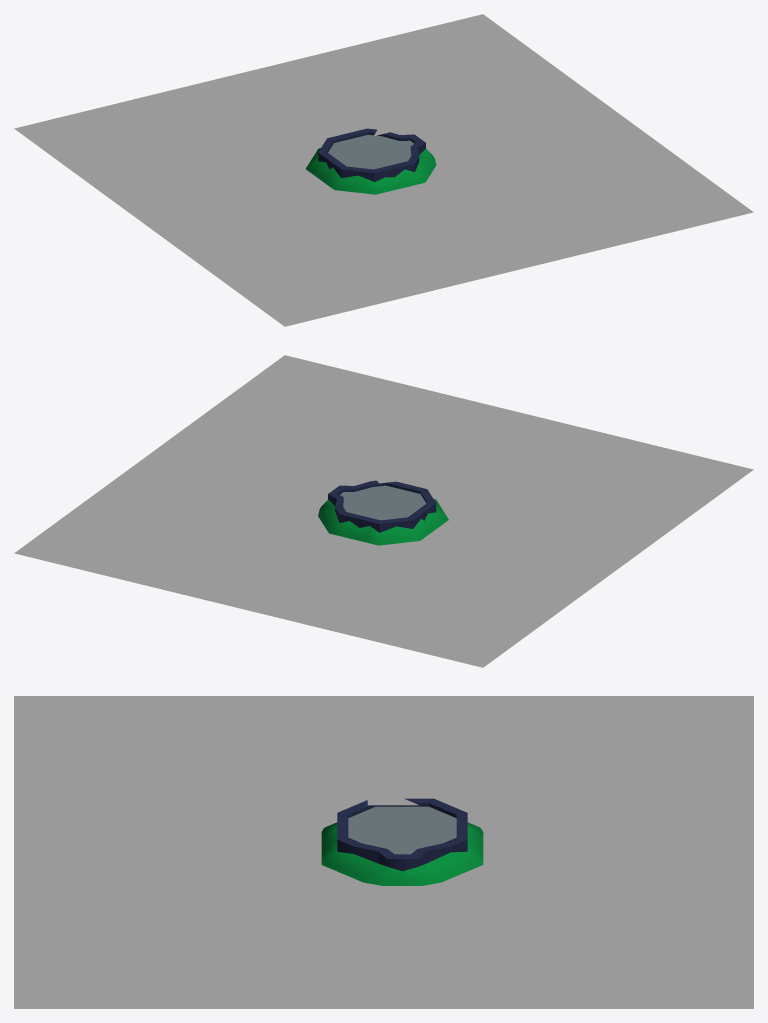
File: NEW_N3_bossRoom.fbx
The picture shows the model from 3 angles, top to bottom: view 1: azimuth 30°, elevation 25°; view 2: azimuth 150°, elevation 25°; view 3: azimuth 270°, elevation 25°; orthographic projection. The views are drawn at different scales.
Parts seen in each view (by area): view 1: Agua, Escenario, Direccion1; view 2: Agua, Escenario, Direccion1; view 3: Agua, Escenario, Direccion1.
Boxes of the visible parts, x1,y1,x2,y2 form: Agua: [14, 14, 753, 326]; Escenario: [306, 128, 436, 194]; Direccion1: [352, 114, 405, 135]; Agua: [14, 355, 753, 667]; Escenario: [318, 480, 448, 545]; Direccion1: [355, 460, 405, 483]; Agua: [14, 696, 753, 1008]; Escenario: [321, 798, 483, 885]; Direccion1: [367, 779, 427, 805].
Size of what is drawn, in the model's own units: 336 by 56.7 by 336.
